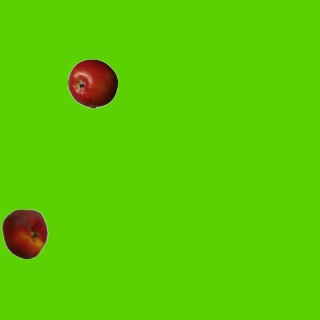Apple Braeburn: (67, 58, 117, 108)
Nectarine Flat: (0, 208, 49, 258)
